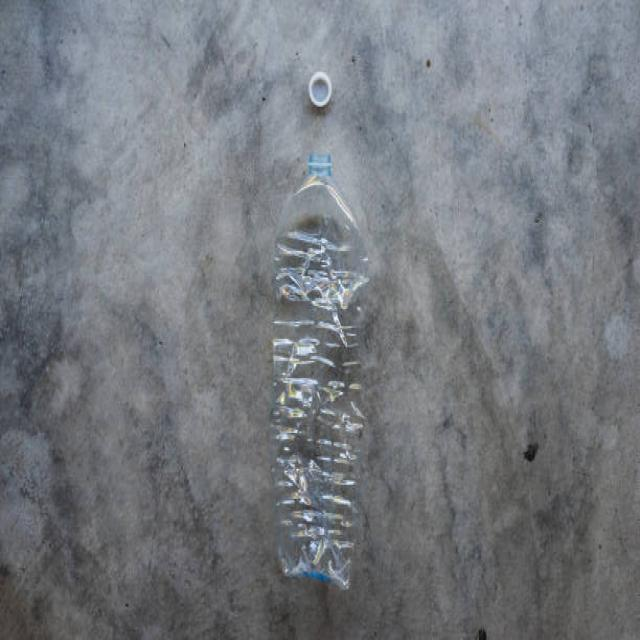plastic: (280, 147, 354, 593)
